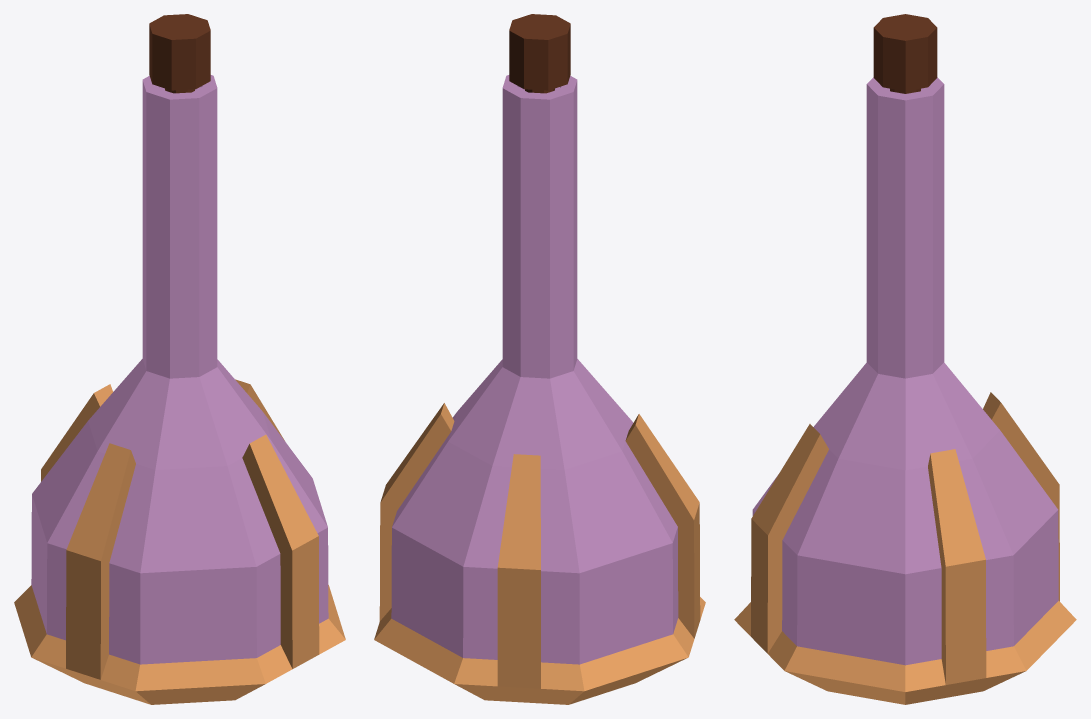
File: potion_rainbow.glb
The picture shows the model from 3 angles, left to right: view 1: azimuth 30°, elevation 25°; view 2: azimuth 150°, elevation 25°; view 3: azimuth 270°, elevation 25°; orthographic projection.
Visible parts, largest first — view 1: Potion; view 2: Potion; view 3: Potion.
Boxes of the visible parts, x1,y1,x2,y2 form: Potion: [14, 14, 345, 704]; Potion: [374, 14, 705, 704]; Potion: [734, 14, 1076, 704].
Size of the model in its own units: 0.5738 by 1.17 by 0.5738.
